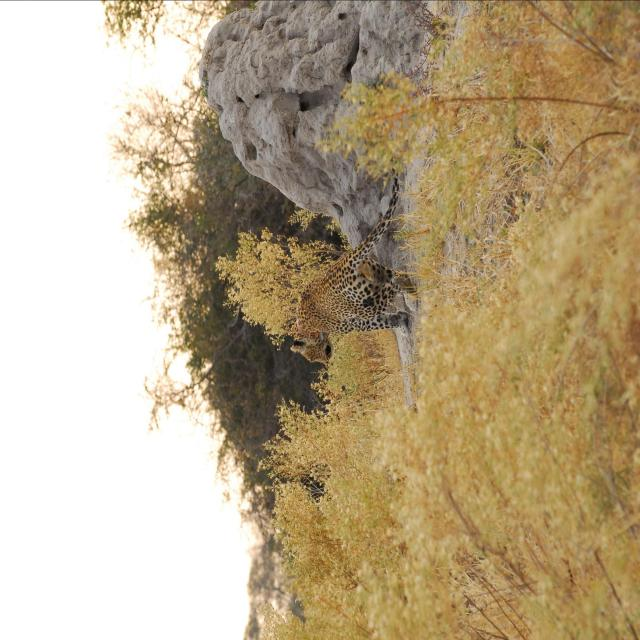Leopard: (250, 183, 440, 366)
